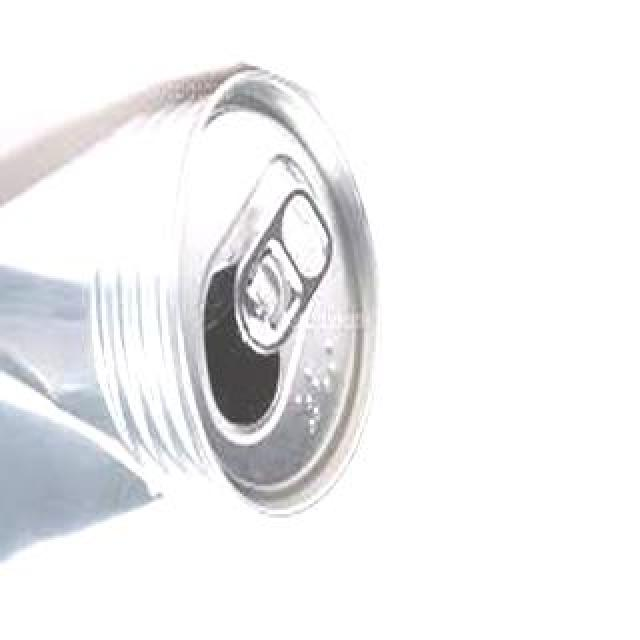Can: (0, 52, 398, 626)
